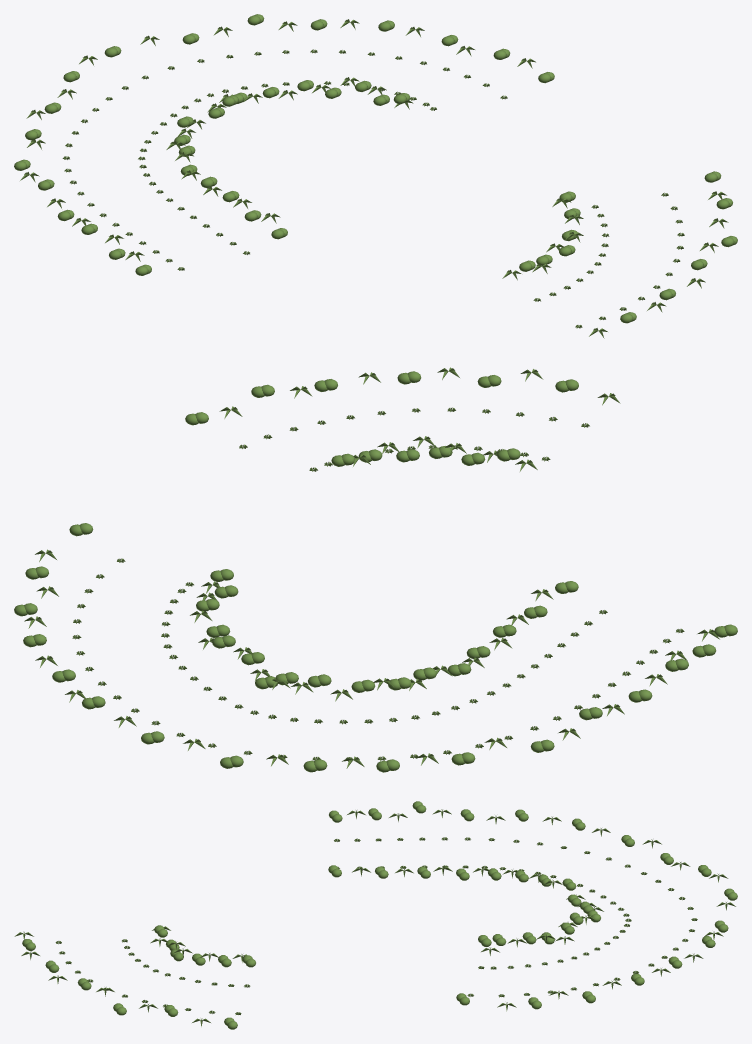
The model's file is Jungle_LeafTips_1.fbx.
3 views of the same model, one above another, from view 1: azimuth 30°, elevation 25°; view 2: azimuth 150°, elevation 25°; view 3: azimuth 270°, elevation 25° (orthographic). The views are drawn at different scales.
Parts seen in each view (by area): view 1: Jungle_LeafTips_1; view 2: Jungle_LeafTips_1; view 3: Jungle_LeafTips_1.
Boxes of the visible parts, box(x1,y1,x2,y2) form: Jungle_LeafTips_1: box(14, 14, 737, 338); Jungle_LeafTips_1: box(14, 367, 737, 772); Jungle_LeafTips_1: box(14, 801, 737, 1029).
Size of the model in its own units: 89635 by 6569 by 120419.
